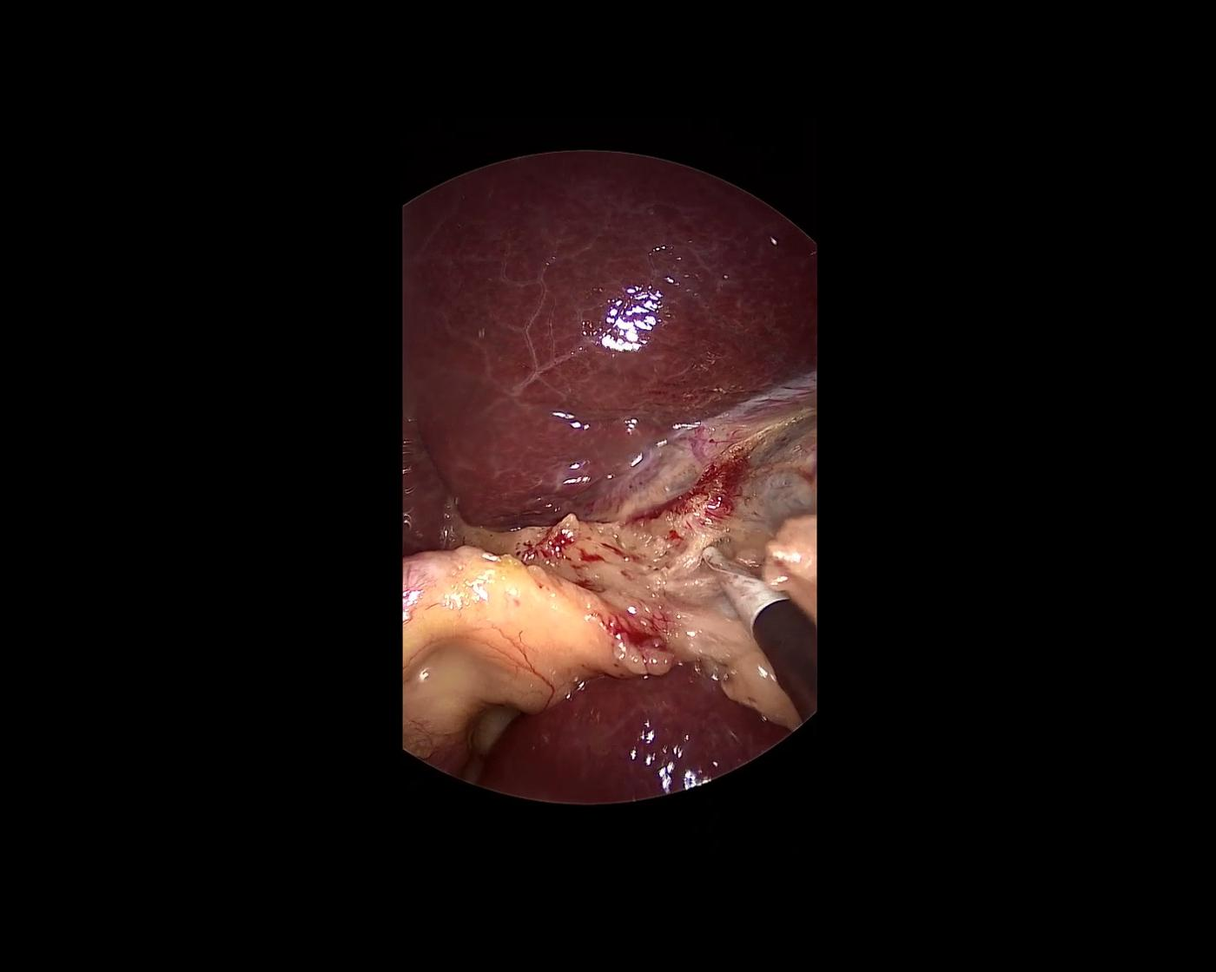Cautery: (681, 526, 856, 723)
Gallbladder: (664, 424, 815, 730)
Liver: (400, 154, 815, 558), (462, 642, 797, 828)
